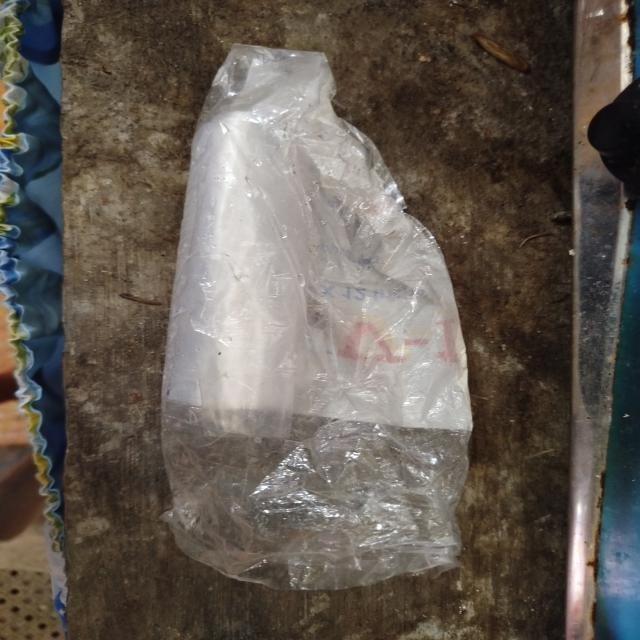residual: (150, 24, 500, 595)
